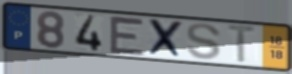4: (73, 13, 104, 53)
8: (35, 9, 67, 50)
E: (107, 14, 147, 58)
S: (184, 22, 224, 62)
T: (225, 23, 261, 65)
X: (146, 17, 186, 61)
